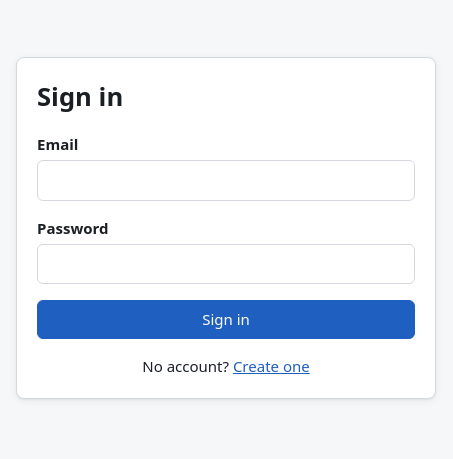
Test: LoginPage › shows the generic message on 401 and clears the password
Type "user@example.com" into the field labelled "Email" at (226, 180), box [37,160,415,200]
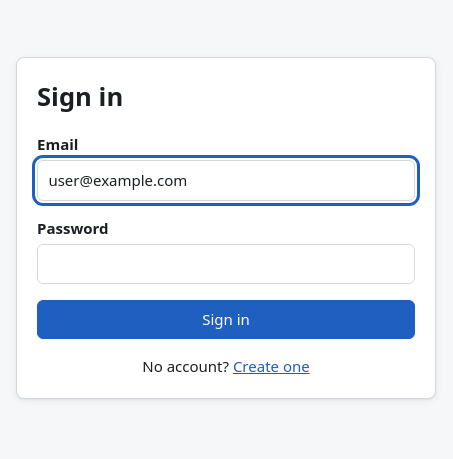
Type "wrong password!" into the password field labelled "Password" at (226, 264), box [37,244,415,284]
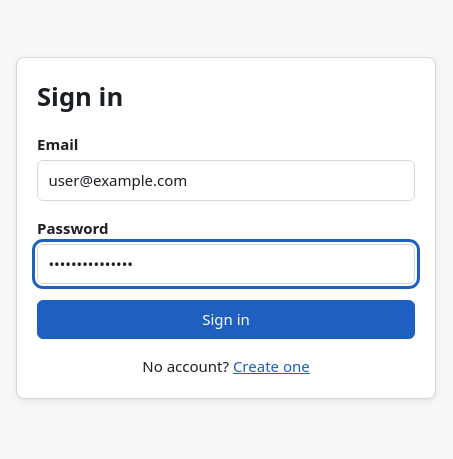
Click the button "Sign in" at (226, 320), box [37,300,415,339]
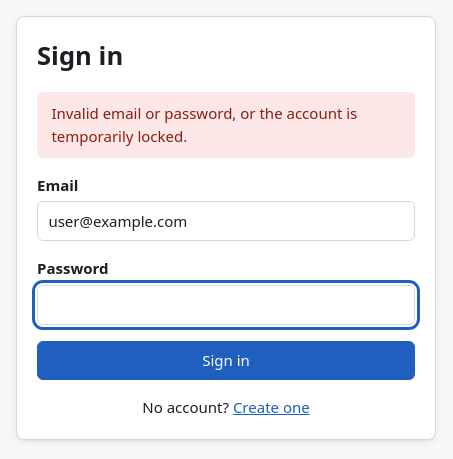
Expected: the text "Invalid email or password, or the account is temporarily locked." is shown, [37,92,415,158]
Expected: the password field labelled "Password" is empty, [37,285,415,325]
